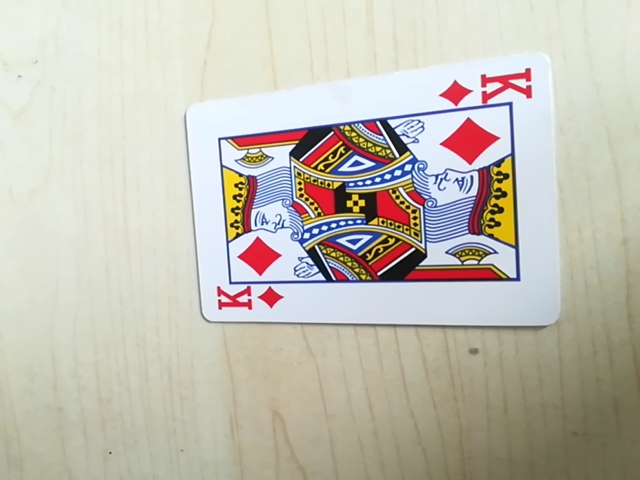fk k: (442, 62, 542, 111), (211, 282, 285, 320)
